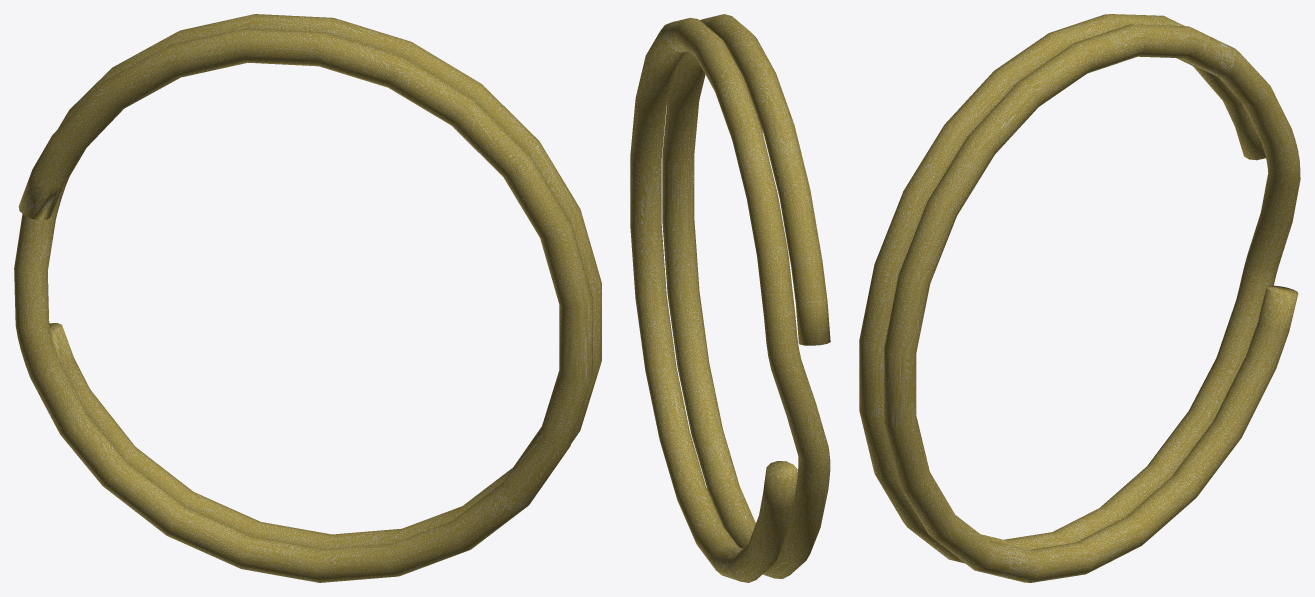
The model's file is original-13.obj.
The picture shows the model from 3 angles, left to right: view 1: azimuth 30°, elevation 25°; view 2: azimuth 150°, elevation 25°; view 3: azimuth 270°, elevation 25°; orthographic projection. The views are drawn at different scales.
Parts seen in each view (by area): view 1: KEY_RING1/KEY_RING/mesh12/mesh12-geometry#mesh12-geometry; view 2: KEY_RING1/KEY_RING/mesh12/mesh12-geometry#mesh12-geometry; view 3: KEY_RING1/KEY_RING/mesh12/mesh12-geometry#mesh12-geometry.
Boxes of the visible parts, left/top/right/bottom form: KEY_RING1/KEY_RING/mesh12/mesh12-geometry#mesh12-geometry: left=14, top=14, right=601, bottom=582; KEY_RING1/KEY_RING/mesh12/mesh12-geometry#mesh12-geometry: left=630, top=14, right=830, bottom=582; KEY_RING1/KEY_RING/mesh12/mesh12-geometry#mesh12-geometry: left=859, top=14, right=1300, bottom=582.
Size of the model in its own units: 0.0917 by 0.1217 by 0.0918.
